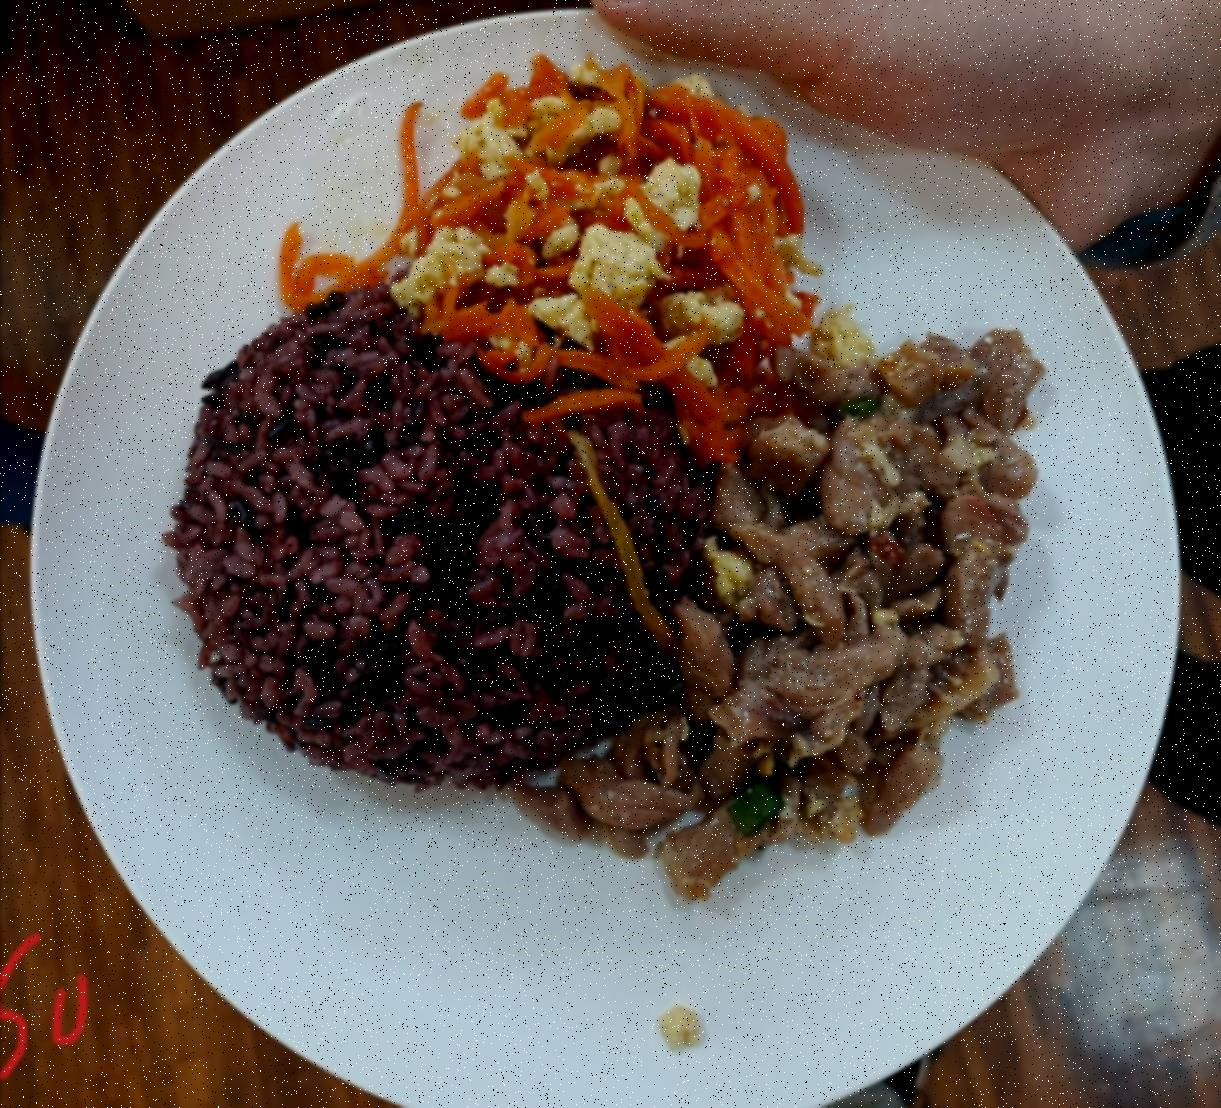big fried chicken leg: (31, 28, 1200, 1104)
braised fish: (180, 328, 714, 776)
braised fish fillet: (373, 80, 834, 350)
braised pork: (678, 353, 1070, 878)
